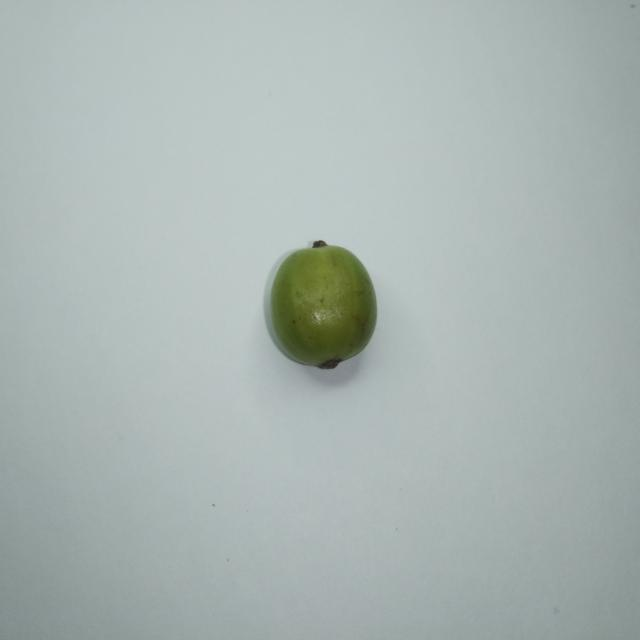Sano: (264, 241, 376, 368)
